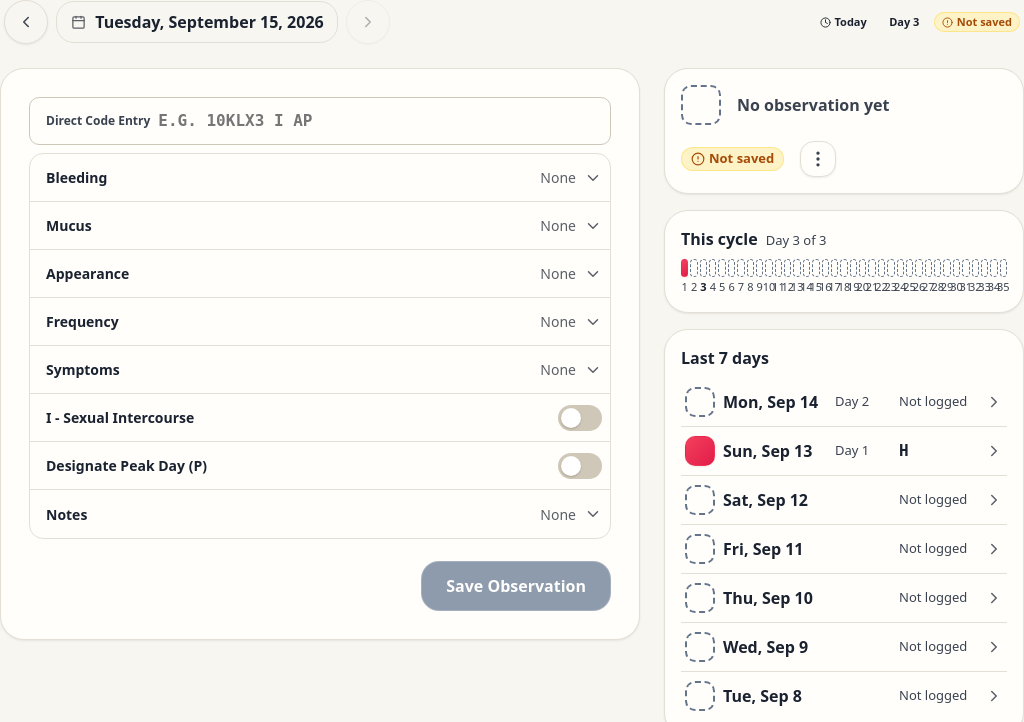
Scenario: TodayView on a desktop › shows a day that is not saved, and no cycle before the first cycle
Expected: the text "Not saved" below "No observation yet" is shown, x1=709 y1=149 x2=774 y2=167
Expected: the picture named "This cycle: Day 3 of 3" is shown, x1=681 y1=259 x2=1007 y2=296
# Sep 12 is before the first cycle: no cycle, and the list has no cycle day
Click the button named "Previous Day": point(26, 22) x1=4 y1=0 x2=48 y2=44
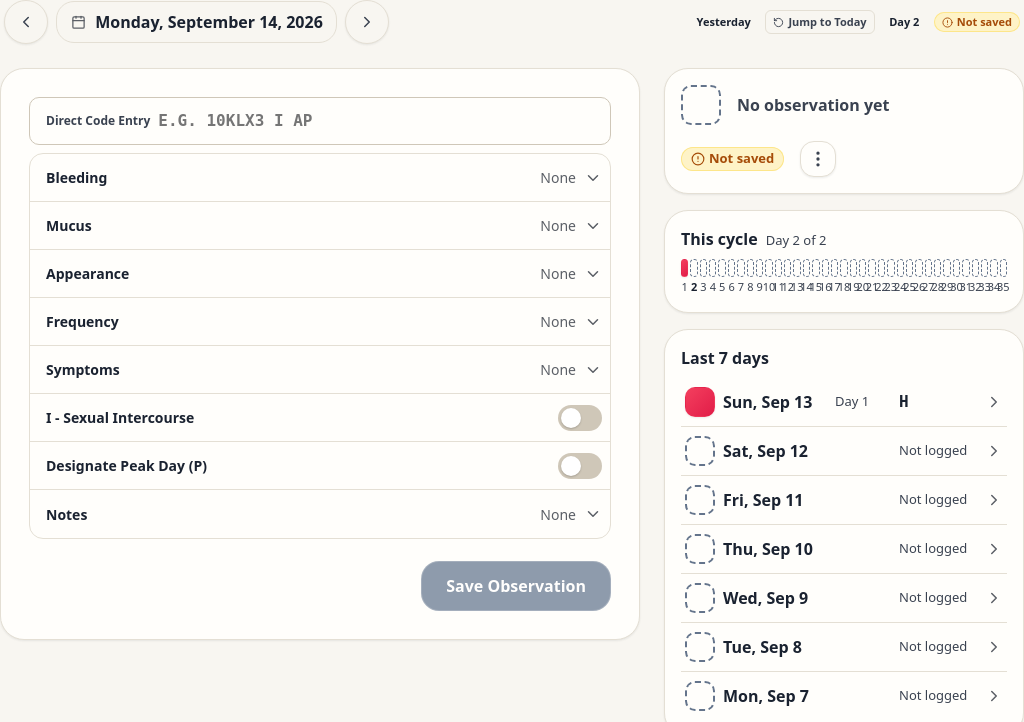
Click the button named "Previous Day": point(26, 22) x1=4 y1=0 x2=48 y2=44
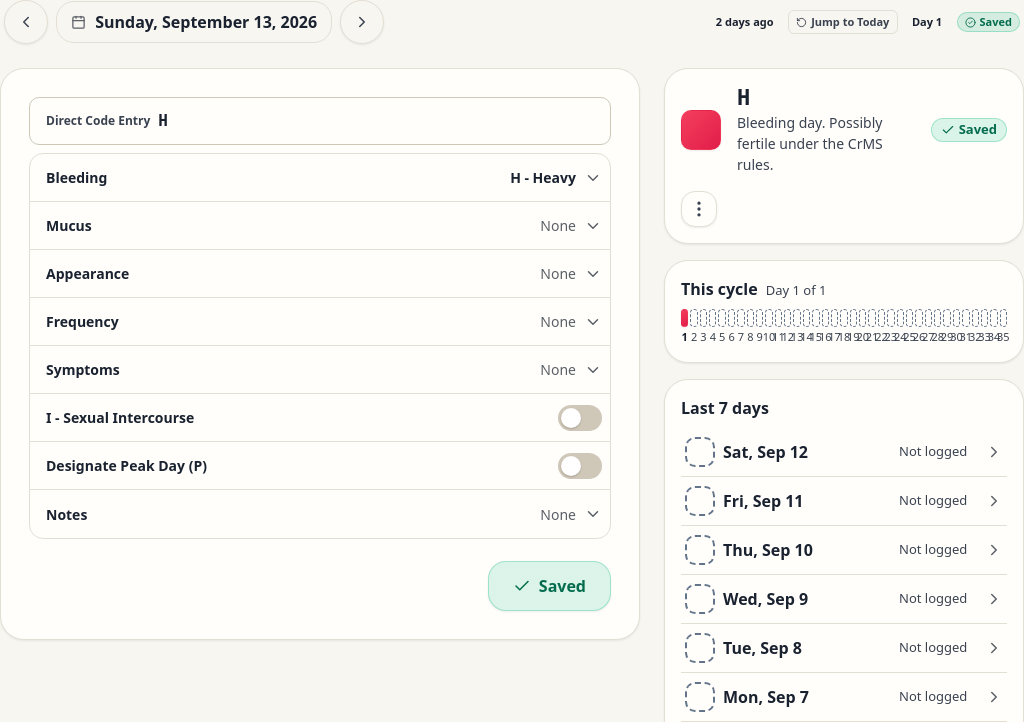
Click the button named "Previous Day": point(26, 22) x1=4 y1=0 x2=48 y2=44
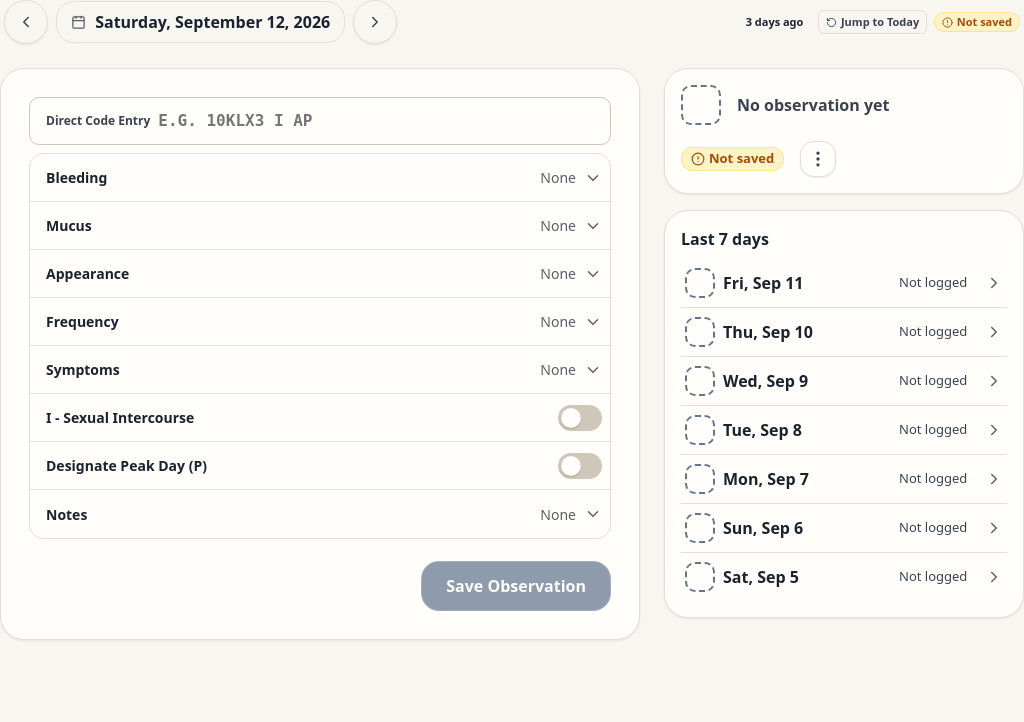
Now the heading "This cycle" is gone
